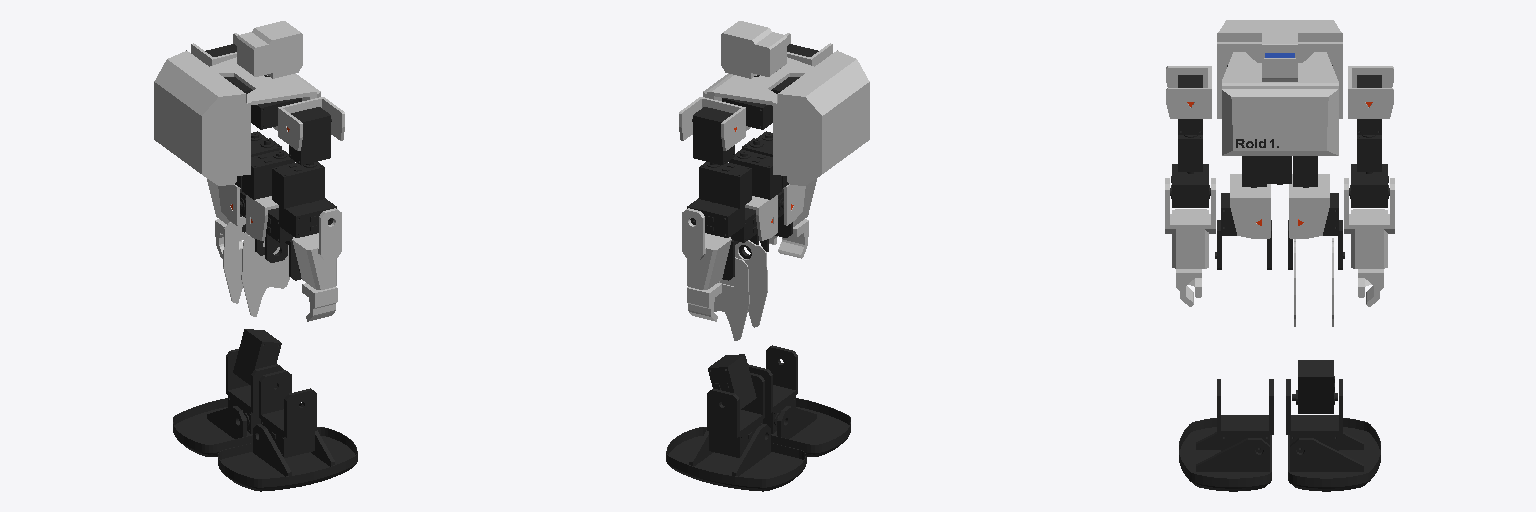
robot.urdf — roid1:
<?xml version="1.0"?>

<robot name="roid1">

  <material name="dark_gray">
    <color rgba="0.2 0.2 0.2 1.0"/>
  </material>
  <material name="light_gray">
    <color rgba="0.8 0.8 0.8 1.0"/>
  </material>
  <material name="light_blue">
    <color rgba="0.3 0.5 1.0 1.0"/>
  </material>
  <material name="orange">
    <color rgba="1.0 0.3 0.1 1.0"/>
  </material>


  <!--base link: origin of this model(0,0,0) -->
  <link name="base_link">
  </link>


  <!--center of body-->
  
  <!--waist-->
  <joint name="c_waist_fixed" type="fixed">
    <parent link="base_link"/>
    <child link="c_waist"/>
    <origin xyz="0 0 0.278106"/>
  </joint>
  <link name="c_waist">
    <visual>
      <geometry>
        <mesh filename="package://roid1_urdf/urdf/c_waist.stl" />
      </geometry>
      <origin xyz="0 0 0"/>
      <material name="dark_gray"/>
    </visual>
  </link>

  <!--chest-->
  <joint name="c_chest_yaw" type="revolute">
    <parent link="c_waist"/>
    <child link="c_chest"/>
    <axis xyz="0 0 1"/>
    <origin xyz="0 0 0.065192"/>
    <limit lower="-3" upper="3" effort="0" velocity="0"/>
  </joint>
  <link name="c_chest">
    <visual>
      <geometry>
        <mesh filename="package://roid1_urdf/urdf/c_chest_a.stl" />
      </geometry>
      <origin xyz="0 0 0"/>
      <material name="light_gray"/>
    </visual>
    <visual>
      <geometry>
        <mesh filename="package://roid1_urdf/urdf/c_chest_b.stl" />
      </geometry>
      <origin xyz="0 0 0"/>
      <material name="dark_gray"/>
    </visual>
  </link>

  <!--head-->
  <joint name="c_head_yaw" type="revolute">
    <parent link="c_chest"/>
    <child link="c_head" />
    <axis xyz="0 0 1"/>
    <origin xyz="0 0 0.039505"/>
    <limit lower="-3" upper="3" effort="0" velocity="0"/>
  </joint>
  <link name="c_head">
    <visual>
      <geometry>
        <mesh filename="package://roid1_urdf/urdf/c_head_a.stl" />
      </geometry>
      <origin xyz="0 0 0"/>
      <material name="light_gray" />
    </visual>
    <visual>
      <geometry>
        <mesh filename="package://roid1_urdf/urdf/c_head_b.stl" />
      </geometry>
      <origin xyz="0 0 0"/>
      <material name="light_blue"/>
    </visual>
  </link>


  <!--right side upper body-->

  <!--r_shoulder_pitch-->
  <joint name="r_shoulder_pitch" type="revolute">
    <parent link="c_chest"/>
    <child link="r_shoulder" />
    <axis xyz="0 1 0"/>
    <origin xyz="0 -0.074375 0"/>
    <limit lower="-3" upper="3" effort="0" velocity="0"/>
  </joint>
  <link name="r_shoulder">
    <visual>
      <geometry>
        <mesh filename="package://roid1_urdf/urdf/r_shoulder.stl" />
      </geometry>
      <origin xyz="0 0 0"/>
      <material name="light_gray">
          <color rgba="0.8 0.8 0.8 1"/>
      </material>
    </visual>
    <visual>
      <geometry>
        <mesh filename="package://roid1_urdf/urdf/shoulderpoint.stl" />
      </geometry>
      <origin xyz="0 0 0"/>
      <material name="orange"/>
    </visual>
  </link>

  <!--r_shoulder_roll-->
  <joint name="r_shoulder_roll" type="revolute">
    <parent link="r_shoulder"/>
    <child link="r_uppararm"/>
    <axis xyz="1 0 0"/>
    <origin xyz="0 0 0"/>
    <limit lower="-3" upper="3" effort="0" velocity="0"/>
  </joint>
  <link name="r_uppararm">
    <visual>
      <geometry>
        <mesh filename="package://roid1_urdf/urdf/r_upperarm.stl" />
      </geometry>
      <origin xyz="0 0 0"/>
      <material name="dark_gray" />
    </visual>
  </link>

  <!--r_elbow_yaw-->
  <joint name="r_elbow_yaw" type="revolute">
    <parent link="r_uppararm"/>
    <child link="r_elbow"/>
    <axis xyz="0 0 1"/>
    <origin xyz="0.004449 0 -0.087511"/>
    <limit lower="-3" upper="3" effort="0" velocity="0"/>
  </joint>
  <link name="r_elbow">
    <visual>
      <geometry>
        <mesh filename="package://roid1_urdf/urdf/r_elbow.stl" />
      </geometry>
      <origin xyz="0.0 0 0"/>
      <material name="dark_gray" />
    </visual>
  </link>

  <!--r_elbow_pitch-->
  <joint name="r_elbow_pitch" type="revolute">
    <parent link="r_elbow"/>
    <child link="r_lowerarm"/>
    <axis xyz="0 1 0"/>
    <origin xyz="0.004698 0 0"/>
    <limit lower="-3" upper="3" effort="0" velocity="0"/>
  </joint>
  <link name="r_lowerarm">
    <visual>
      <geometry>
        <mesh filename="package://roid1_urdf/urdf/r_lowerarm.stl" />
      </geometry>
      <origin xyz="0 0 0"/>
      <material name="light_gray"/>
    </visual>
  </link>



  <!--left side upper body-->

  <!--chest to l_shoulder-->
  <joint name="l_shoulder_pitch" type="revolute">
    <parent link="c_chest"/>
    <child link="l_shoulder" />
    <axis xyz="0 1 0"/>
    <origin xyz="0 0.074375 0"/>
    <limit lower="-3" upper="3" effort="0" velocity="0"/>
  </joint>
  <link name="l_shoulder">
    <visual>
      <geometry>
        <mesh filename="package://roid1_urdf/urdf/l_shoulder.stl" />
      </geometry>
      <origin xyz="0 0 0"/>
      <material name="light_gray">
          s<color rgba="0.8 0.8 0.8 1"/>
      </material>
    </visual>
    <visual>
      <geometry>
        <mesh filename="package://roid1_urdf/urdf/shoulderpoint.stl" />
      </geometry>
      <origin xyz="0 0 0"/>
      <material name="orange"/>
    </visual>
  </link>

  <!--l_shoulder_roll-->
  <joint name="l_shoulder_roll" type="revolute">
    <parent link="l_shoulder"/>
    <child link="l_uppararm"/>
    <axis xyz="1 0 0"/>
    <origin xyz="0 0 0"/>
    <limit lower="-3" upper="3" effort="0" velocity="0"/>
  </joint>
  <link name="l_uppararm">
    <visual>
      <geometry>
        <mesh filename="package://roid1_urdf/urdf/l_upperarm.stl" />
      </geometry>
      <origin xyz="0 0 0"/>
      <material name="dark_gray" />
    </visual>
  </link>

  <!--l_elbow_yaw-->
  <joint name="l_elbow_yaw" type="revolute">
    <parent link="l_uppararm"/>
    <child link="l_elbow"/>
    <axis xyz="0 0 1"/>
    <origin xyz="0.004449 0 -0.087511"/>
    <limit lower="-3" upper="3" effort="0" velocity="0"/>
  </joint>
  <link name="l_elbow">
    <visual>
      <geometry>
        <mesh filename="package://roid1_urdf/urdf/l_elbow.stl" />
      </geometry>
      <origin xyz="0.0 0 0"/>
      <material name="dark_gray" />
    </visual>
  </link>

  <!--l_elbow_pitch-->
  <joint name="l_elbow_pitch" type="revolute">
    <parent link="l_elbow"/>
    <child link="l_lowerarm"/>
    <axis xyz="0 1 0"/>
    <origin xyz="0.004698 0 0"/>
    <limit lower="-3" upper="3" effort="0" velocity="0"/>
  </joint>
  <link name="l_lowerarm">
    <visual>
      <geometry>
        <mesh filename="package://roid1_urdf/urdf/l_lowerarm.stl" />
      </geometry>
      <origin xyz="0 0 0"/>
      <material name="light_gray"/>
    </visual>
  </link>



  <!--right side lower body-->

  <!--r_hipjoint_yaw-->
  <joint name="r_hipjoint_yaw" type="revolute">
    <parent link="c_waist"/>
    <child link="r_hipjointupper"/>
    <axis xyz="0 0 1"/>
    <origin xyz="0.0 -0.021530 -0.044936"/>
    <limit lower="-3" upper="3" effort="0" velocity="0"/>
  </joint>
  <link name="r_hipjointupper">
    <visual>
      <geometry>
        <mesh filename="package://roid1_urdf/urdf/r_hipjointupper.stl" />
      </geometry>
      <origin xyz="0 0 0"/>
      <material name="light_gray" />
    </visual>
    <visual>
      <geometry>
        <mesh filename="package://roid1_urdf/urdf/r_hipjointupperpoint.stl" />
      </geometry>
      <origin xyz="0 0 0"/>
      <material name="orange"/>
    </visual>
  </link>

  <!--r_hipjoint_roll-->
  <joint name="r_hipjoint_roll" type="revolute">
    <parent link="r_hipjointupper"/>
    <child link="r_hipjointlower"/>
    <axis xyz="1 0 0"/>
    <origin xyz="0 0.004501 0"/>
    <limit lower="-3" upper="3" effort="0" velocity="0"/>
  </joint>
  <link name="r_hipjointlower">
    <visual>
      <geometry>
        <mesh filename="package://roid1_urdf/urdf/r_hipjointlower.stl" />
      </geometry>
      <origin xyz="0 0 0"/>
      <material name="dark_gray" />
    </visual>
  </link>

  <!--r_hipjoint_pitch-->
  <joint name="r_hipjoint_pitch" type="revolute">
    <parent link="r_hipjointlower"/>
    <child link="r_upperreg"/>
    <axis xyz="0 1 0"/>
    <origin xyz="0.004052 -0.011504 -0.038476"/>
    <limit lower="-3" upper="3" effort="0" velocity="0"/>
  </joint>
  <link name="r_upperreg">
    <visual>
      <geometry>
        <mesh filename="package://roid1_urdf/urdf/r_upperreg_a.stl" />
      </geometry>
      <origin xyz="0 0 0"/>
      <material name="dark_gray" />
    </visual>
    <visual>
      <geometry>
        <mesh filename="package://roid1_urdf/urdf/r_upperreg_b.stl" />
      </geometry>
      <origin xyz="0 0 0"/>
      <material name="light_gray" />
    </visual>
  </link>

  <!--r_knee_pitch-->
  <joint name="r_knee_pitch" type="revolute">
    <parent link="r_upperreg"/>
    <child link="r_lowerreg"/>
    <axis xyz="0 1 0"/>
    <origin xyz="0.0 0.0 -0.065008"/>
    <limit lower="-3" upper="3" effort="0" velocity="0"/>
  </joint>
  <link name="r_lowerreg">
    <visual>
      <geometry>
        <mesh filename="package://roid1_urdf/urdf/r_lowerreg_a.stl" />
      </geometry>
      <origin xyz="0 0 0"/>
      <material name="dark_gray" />
    </visual>
    <visual>
      <geometry>
        <mesh filename="package://roid1_urdf/urdf/r_lowerreg_b.stl" />
      </geometry>
      <origin xyz="0 0 0"/>
      <material name="light_gray" />
    </visual>
  </link>

  <!--r_ankle_pitch-->
  <joint name="r_ankle_pitch" type="revolute">
    <parent link="r_lowerreg"/>
    <child link="r_ankle"/>
    <axis xyz="0 1 0"/>
    <origin xyz="0.0 0.0 -0.065203"/>
    <limit lower="-3" upper="3" effort="0" velocity="0"/>
  </joint>
  <link name="r_ankle">
    <visual>
      <geometry>
        <mesh filename="package://roid1_urdf/urdf/r_ankle.stl" />
      </geometry>
      <origin xyz="0 0 0"/>
      <material name="dark_gray" />
    </visual>
  </link>

  <!--r_ankle_roll-->
  <joint name="r_ankle_roll" type="revolute">
    <parent link="r_ankle"/>
    <child link="foot_r"/>
    <axis xyz="1 0 0"/>
    <origin xyz="0.0 0.011404 -0.038550"/>
    <limit lower="-3" upper="3" effort="0" velocity="0"/>
  </joint>
  <link name="foot_r">
    <visual>
      <geometry>
        <mesh filename="package://roid1_urdf/urdf/r_foot.stl" />
      </geometry>
      <origin xyz="0 0 0"/>
      <material name="dark_gray" />
    </visual>
  </link>


  <!--left side lower body-->

  <!--l_hipjoint_yaw-->
  <joint name="l_hipjoint_yaw" type="revolute">
    <parent link="c_waist"/>
    <child link="l_hipjointupper"/>
    <axis xyz="0 0 1"/>
    <origin xyz="0.0 0.021530 -0.044936"/>
    <limit lower="-3" upper="3" effort="0" velocity="0"/>
  </joint>
  <link name="l_hipjointupper">
    <visual>
      <geometry>
        <mesh filename="package://roid1_urdf/urdf/l_hipjointupper.stl" />
      </geometry>
      <origin xyz="0 0 0"/>
      <material name="light_gray" />
    </visual>
    <visual>
      <geometry>
        <mesh filename="package://roid1_urdf/urdf/l_hipjointupperpoint.stl" />
      </geometry>
      <origin xyz="0 0 0"/>
      <material name="orange"/>
    </visual>
  </link>

  <!--l_hipjoint_roll-->
  <joint name="l_hipjoint_roll" type="revolute">
    <parent link="l_hipjointupper"/>
    <child link="l_hipjointlower"/>
    <axis xyz="1 0 0"/>
    <origin xyz="0 -0.004501 0"/>
    <limit lower="-3" upper="3" effort="0" velocity="0"/>
  </joint>
  <link name="l_hipjointlower">
    <visual>
      <geometry>
        <mesh filename="package://roid1_urdf/urdf/l_hipjointlower.stl" />
      </geometry>
      <origin xyz="0 0 0"/>
      <material name="dark_gray" />
    </visual>
  </link>

  <!--l_hipjoint_pitch-->
  <joint name="l_hipjoint_pitch" type="revolute">
    <parent link="l_hipjointlower"/>
    <child link="l_upperreg"/>
    <axis xyz="0 1 0"/>
    <origin xyz="0.004052 0.011504 -0.038476"/>
    <limit lower="-3" upper="3" effort="0" velocity="0"/>
  </joint>
  <link name="l_upperreg">
    <visual>
      <geometry>
        <mesh filename="package://roid1_urdf/urdf/l_upperreg_a.stl"/>
      </geometry>
      <origin xyz="0 0 0"/>
      <material name="dark_gray" />
    </visual>
    <visual>
      <geometry>
        <mesh filename="package://roid1_urdf/urdf/l_upperreg_b.stl"/>
      </geometry>
      <origin xyz="0 0 0"/>
      <material name="light_gray" />
    </visual>
  </link>

  <!--l_knee_pitch-->
  <joint name="l_knee_pitch" type="revolute">
    <parent link="l_upperreg"/>
    <child link="l_lowerreg"/>
    <axis xyz="0 1 0"/>
    <origin xyz="0.0 0.0 -0.065008"/>
    <limit lower="-3" upper="3" effort="0" velocity="0"/>
  </joint>
  <link name="l_lowerreg">
    <visual>
      <geometry>
        <mesh filename="package://roid1_urdf/urdf/l_lowerreg_a.stl"/>
      </geometry>
      <origin xyz="0 0 0"/>
      <material name="dark_gray"/>
    </visual>
    <visual>
      <geometry>
        <mesh filename="package://roid1_urdf/urdf/l_lowerreg_b.stl"/>
      </geometry>
      <origin xyz="0 0 0"/>
      <material name="light_gray"/>
    </visual>
  </link>

  <!--l_ankle_pitch-->
  <joint name="l_ankle_pitch" type="revolute">
    <parent link="l_lowerreg"/>
    <child link="l_ankle"/>
    <axis xyz="0 1 0"/>
    <origin xyz="0.0 0.0 -0.065203"/>
    <limit lower="-3" upper="3" effort="0" velocity="0"/>
  </joint>
  <link name="l_ankle">
    <visual>
      <geometry>
        <mesh filename="package://roid1_urdf/urdf/l_ankle.stl" />
      </geometry>
      <origin xyz="0 0 0"/>
      <material name="dark_gray"/>
    </visual>
  </link>

  <!--l_ankle_roll-->
  <joint name="l_ankle_roll" type="revolute">
    <parent link="l_ankle"/>
    <child link="l_foot"/>
    <axis xyz="1 0 0"/>
    <origin xyz="0.0 -0.011404 -0.038550"/>
    <limit lower="-3" upper="3" effort="0" velocity="0"/>
  </joint>
  <link name="l_foot">
    <visual>
      <geometry>
        <mesh filename="package://roid1_urdf/urdf/l_foot.stl"/>
      </geometry>
      <origin xyz="0 0 0"/>
      <material name="dark_gray"/>
    </visual>
  </link>

</robot>

--- Render facts (derived) ---
The picture shows the robot from 3 angles, left to right: view 1: azimuth 30°, elevation 25°; view 2: azimuth 150°, elevation 25°; view 3: azimuth 270°, elevation 25°; orthographic projection.
Model roid1 with 24 links and 23 joints (22 revolute, 1 fixed), rooted at base_link, posed all joints at 0.
Visible links, largest first — view 1: c_chest, foot_r, r_uppararm, r_ankle, r_lowerarm, l_upperreg, l_foot, c_head, c_waist, l_ankle, r_shoulder, l_lowerreg (+5 smaller); view 2: c_chest, l_foot, l_uppararm, l_lowerarm, foot_r, l_ankle, l_upperreg, c_head, r_ankle, c_waist, l_shoulder, l_lowerreg (+5 smaller); view 3: c_chest, foot_r, l_foot, r_lowerarm, l_lowerarm, c_waist, l_hipjointupper, r_hipjointupper, c_head, r_shoulder, l_shoulder, l_lowerreg (+8 smaller).
Link boxes in pixels (x1,y1,x2,y2): c_chest: [154, 50, 320, 185]; foot_r: [218, 424, 357, 491]; r_uppararm: [272, 107, 331, 208]; r_ankle: [259, 370, 316, 457]; r_lowerarm: [292, 208, 341, 321]; l_upperreg: [223, 216, 289, 316]; l_foot: [173, 398, 301, 456]; c_head: [237, 21, 302, 78]; c_waist: [235, 131, 294, 199]; l_ankle: [226, 349, 283, 433]; r_shoulder: [278, 97, 344, 150]; l_lowerreg: [233, 329, 281, 385]; c_chest: [703, 50, 869, 185]; l_foot: [666, 424, 806, 491]; l_uppararm: [692, 107, 751, 208]; l_lowerarm: [682, 208, 731, 321]; foot_r: [771, 398, 850, 456]; l_ankle: [707, 373, 764, 457]; l_upperreg: [714, 240, 767, 340]; c_head: [721, 21, 786, 78]; r_ankle: [748, 345, 797, 433]; c_waist: [729, 131, 788, 199]; l_shoulder: [679, 97, 745, 150]; l_lowerreg: [708, 354, 756, 409]; c_chest: [1217, 20, 1342, 155]; foot_r: [1179, 418, 1271, 491]; l_foot: [1288, 418, 1380, 491]; r_lowerarm: [1165, 178, 1215, 306]; l_lowerarm: [1344, 178, 1394, 306]; c_waist: [1242, 156, 1317, 187]; l_hipjointupper: [1289, 174, 1329, 238]; r_hipjointupper: [1230, 174, 1270, 238]; c_head: [1262, 24, 1297, 81]; r_shoulder: [1166, 66, 1211, 118]; l_shoulder: [1348, 66, 1393, 118]; l_lowerreg: [1292, 360, 1337, 413].
Size in the robot's own frame: 0.1482 by 0.1917 by 0.4004 metres.
27 mesh visuals loaded from 32 distinct referenced files (26 binary STL); not drawn: 6 (reference not matched to a file when rendering).